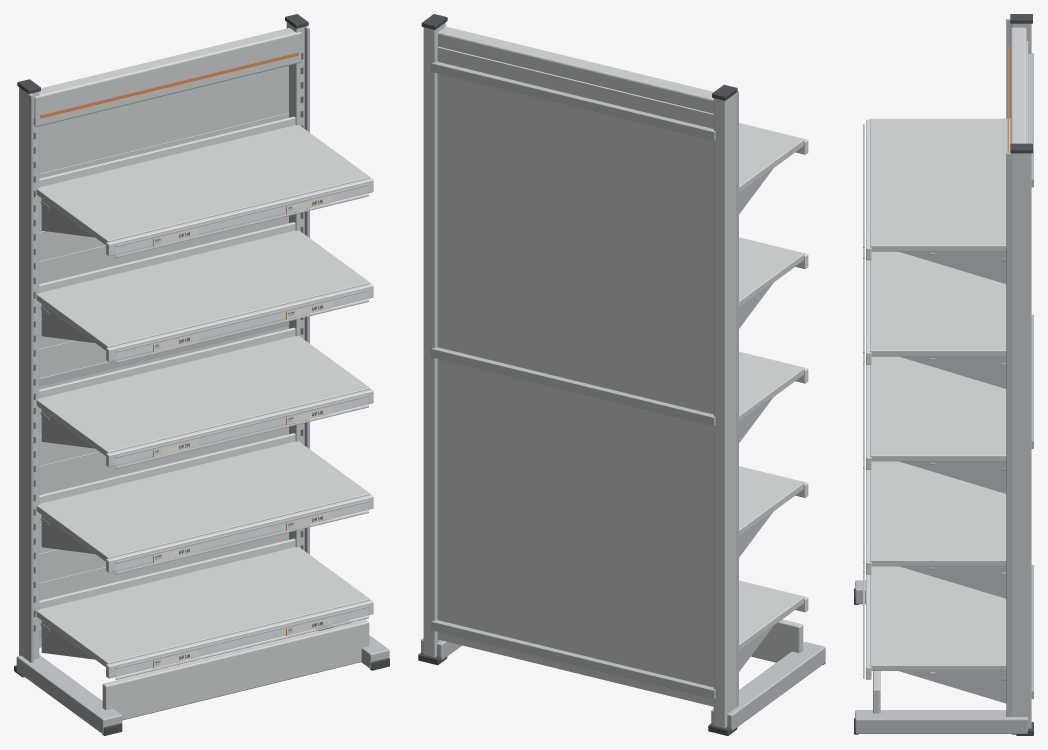
File: Swiss_Supermarket_Wall_Shelf_1m_5Tier.glb
3 views of the same model, side by side, from view 1: azimuth 30°, elevation 25°; view 2: azimuth 150°, elevation 25°; view 3: azimuth 270°, elevation 25° (orthographic). The views are drawn at different scales.
Parts seen in each view (by area): view 1: White enamel steel back panel | BAY 1, Folded 1m load tray | LEVEL 1 | BAY 1, Folded 1m load tray | LEVEL 2 | BAY 1, Folded 1m load tray | LEVEL 4 | BAY 1, Folded 1m load tray | LEVEL 5 | BAY 1, Folded 1m load tray | LEVEL 3 | BAY 1, Lower steel kick-panel | BAY 1, Top finishing header | BAY 1, C-SHAPED STEEL REAR UPRIGHT | BAY 1.001, Upright return fold | BAY 1, Rolled front metal shelf-edge | LEVEL 2 | BAY 1, Rolled front metal shelf-edge | LEVEL 1 | BAY 1 (+34 smaller); view 2: White enamel steel back panel | BAY 1, C-SHAPED STEEL REAR UPRIGHT | BAY 1.001, C-SHAPED STEEL REAR UPRIGHT | BAY 1, Top finishing header | BAY 1, Rear galvanised cross brace | BAY 1.002, Rear galvanised cross brace | BAY 1, Rear galvanised cross brace | BAY 1.001, Outrigger anti-tip foot | BAY 1, Folded 1m load tray | LEVEL 1 | BAY 1, Folded 1m load tray | LEVEL 2 | BAY 1, Folded 1m load tray | LEVEL 4 | BAY 1, Folded 1m load tray | LEVEL 5 | BAY 1 (+3 smaller); view 3: Folded 1m load tray | LEVEL 5 | BAY 1, Folded 1m load tray | LEVEL 2 | BAY 1, Folded 1m load tray | LEVEL 3 | BAY 1, Folded 1m load tray | LEVEL 4 | BAY 1, Folded 1m load tray | LEVEL 1 | BAY 1, C-SHAPED STEEL REAR UPRIGHT | BAY 1, Outrigger anti-tip foot | BAY 1.001, Upright return fold | BAY 1.001, Top finishing header | BAY 1, Pressed triangular support bracket | LEVEL 5 | BAY 1.001, Pressed triangular support bracket | LEVEL 4 | BAY 1.001, Pressed triangular support bracket | LEVEL 3 | BAY 1.001 (+12 smaller).
Boxes of the visible parts, bbox=[...] form: White enamel steel back panel | BAY 1: bbox=[39, 65, 288, 647]; Folded 1m load tray | LEVEL 1 | BAY 1: bbox=[36, 547, 370, 666]; Folded 1m load tray | LEVEL 2 | BAY 1: bbox=[36, 441, 370, 561]; Folded 1m load tray | LEVEL 4 | BAY 1: bbox=[36, 230, 370, 350]; Folded 1m load tray | LEVEL 5 | BAY 1: bbox=[36, 125, 370, 244]; Folded 1m load tray | LEVEL 3 | BAY 1: bbox=[36, 336, 370, 455]; Lower steel kick-panel | BAY 1: bbox=[102, 619, 369, 720]; Top finishing header | BAY 1: bbox=[34, 28, 301, 127]; C-SHAPED STEEL REAR UPRIGHT | BAY 1.001: bbox=[19, 87, 39, 660]; Upright return fold | BAY 1: bbox=[28, 94, 33, 662]; Rolled front metal shelf-edge | LEVEL 2 | BAY 1: bbox=[106, 494, 373, 572]; Rolled front metal shelf-edge | LEVEL 1 | BAY 1: bbox=[106, 600, 373, 678]; White enamel steel back panel | BAY 1: bbox=[437, 46, 713, 706]; C-SHAPED STEEL REAR UPRIGHT | BAY 1.001: bbox=[713, 93, 735, 727]; C-SHAPED STEEL REAR UPRIGHT | BAY 1: bbox=[423, 22, 445, 657]; Top finishing header | BAY 1: bbox=[438, 26, 713, 113]; Rear galvanised cross brace | BAY 1.002: bbox=[431, 61, 715, 140]; Rear galvanised cross brace | BAY 1: bbox=[431, 619, 715, 698]; Rear galvanised cross brace | BAY 1.001: bbox=[431, 347, 715, 426]; Outrigger anti-tip foot | BAY 1: bbox=[711, 642, 825, 730]; Folded 1m load tray | LEVEL 1 | BAY 1: bbox=[739, 581, 804, 650]; Folded 1m load tray | LEVEL 2 | BAY 1: bbox=[739, 466, 804, 536]; Folded 1m load tray | LEVEL 4 | BAY 1: bbox=[739, 238, 804, 307]; Folded 1m load tray | LEVEL 5 | BAY 1: bbox=[739, 123, 804, 193]; Folded 1m load tray | LEVEL 5 | BAY 1: bbox=[870, 118, 1010, 251]; Folded 1m load tray | LEVEL 2 | BAY 1: bbox=[870, 461, 1006, 566]; Folded 1m load tray | LEVEL 3 | BAY 1: bbox=[870, 356, 1006, 461]; Folded 1m load tray | LEVEL 4 | BAY 1: bbox=[870, 251, 1006, 356]; Folded 1m load tray | LEVEL 1 | BAY 1: bbox=[870, 566, 1006, 670]; C-SHAPED STEEL REAR UPRIGHT | BAY 1: bbox=[1012, 153, 1031, 734]; Outrigger anti-tip foot | BAY 1.001: bbox=[855, 710, 1027, 733]; Upright return fold | BAY 1.001: bbox=[1006, 152, 1012, 716]; Top finishing header | BAY 1: bbox=[1010, 26, 1026, 143]; Pressed triangular support bracket | LEVEL 5 | BAY 1.001: bbox=[899, 251, 1006, 283]; Pressed triangular support bracket | LEVEL 4 | BAY 1.001: bbox=[899, 356, 1006, 388]; Pressed triangular support bracket | LEVEL 3 | BAY 1.001: bbox=[899, 461, 1006, 493].
Bounding box in the file's own units: 1.08 × 2.12 × 0.589.
Materials: 9 (1 with a texture image).
